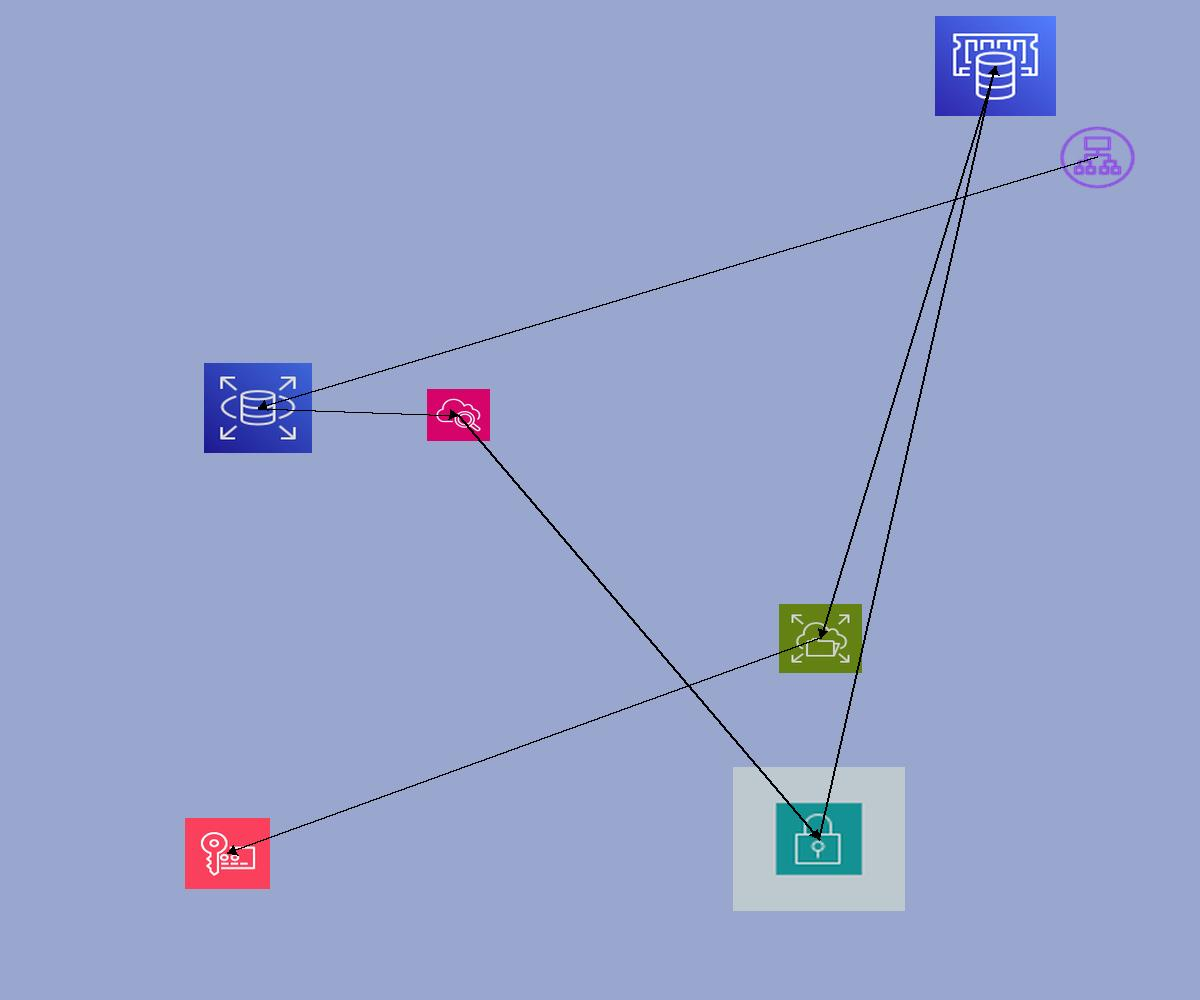AWS-CloudWatch: (427, 389, 490, 441)
AWS-EFS: (779, 604, 862, 673)
AWS-ElastiCache: (935, 16, 1056, 116)
AWS-Key-Management-Service: (185, 818, 270, 889)
AWS-Private-subnet: (733, 767, 905, 911)
AWS-RDS: (204, 363, 312, 453)
AWS-Res_Elastic-Load-Balancing_Application-Load-Balancer: (1057, 124, 1138, 191)
